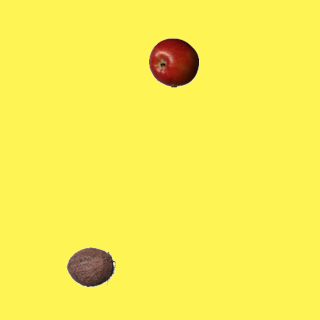Apple Braeburn: (148, 37, 198, 87)
Cocos: (65, 241, 115, 291)
